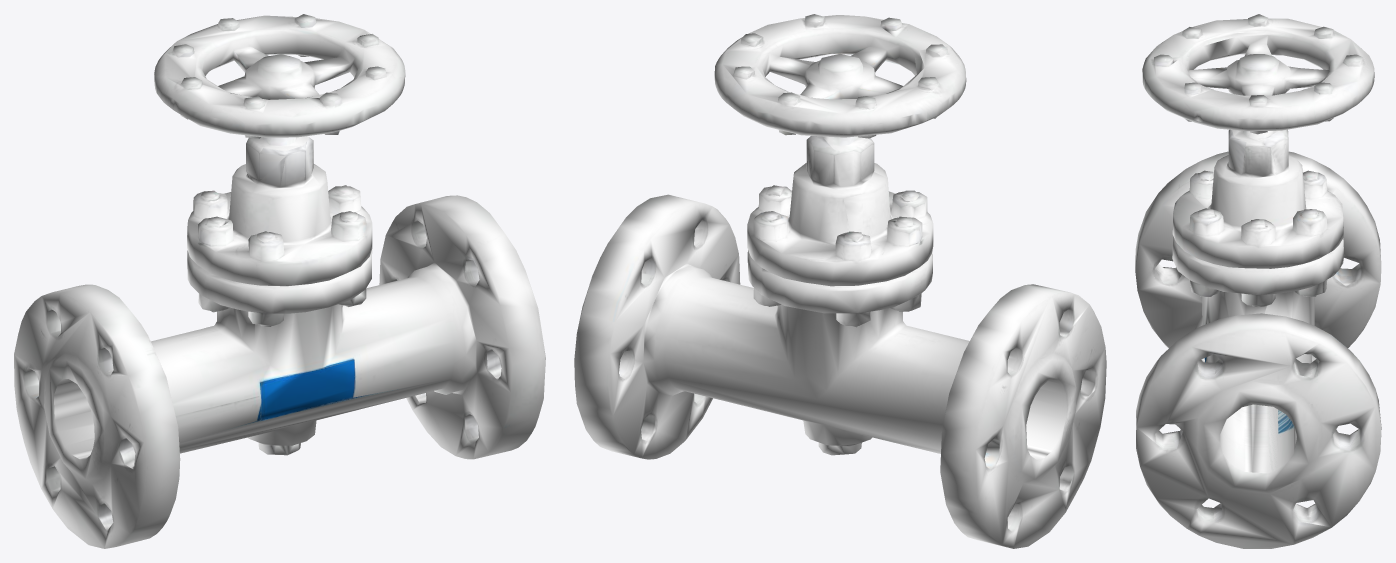
Rendered from valve.glb.
3 views of the same model, side by side, from view 1: azimuth 30°, elevation 25°; view 2: azimuth 150°, elevation 25°; view 3: azimuth 270°, elevation 25° (orthographic). The views are drawn at different scales.
Parts seen in each view (by area): view 1: valve; view 2: valve; view 3: valve.
Boxes of the visible parts, bbox=[...] form: valve: bbox=[14, 14, 545, 548]; valve: bbox=[574, 14, 1106, 548]; valve: bbox=[1135, 14, 1381, 548].
Size of the model in its own units: 0.9998 by 1 by 0.5569.
Materials: 1 (1 with a texture image).
